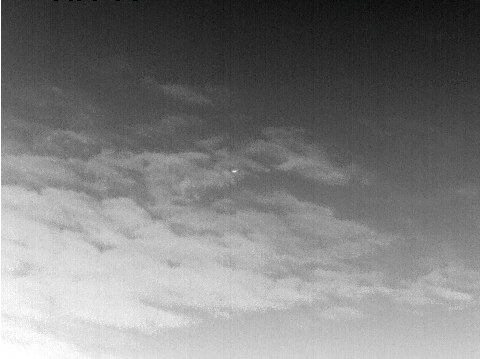dim target: (231, 169, 239, 173)
